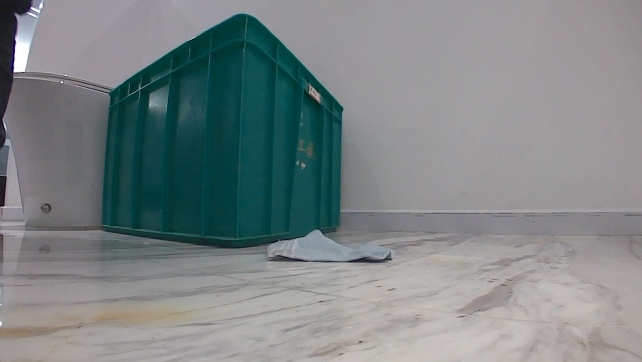socks: (265, 227, 396, 265)
toilet: (1, 68, 110, 231)
